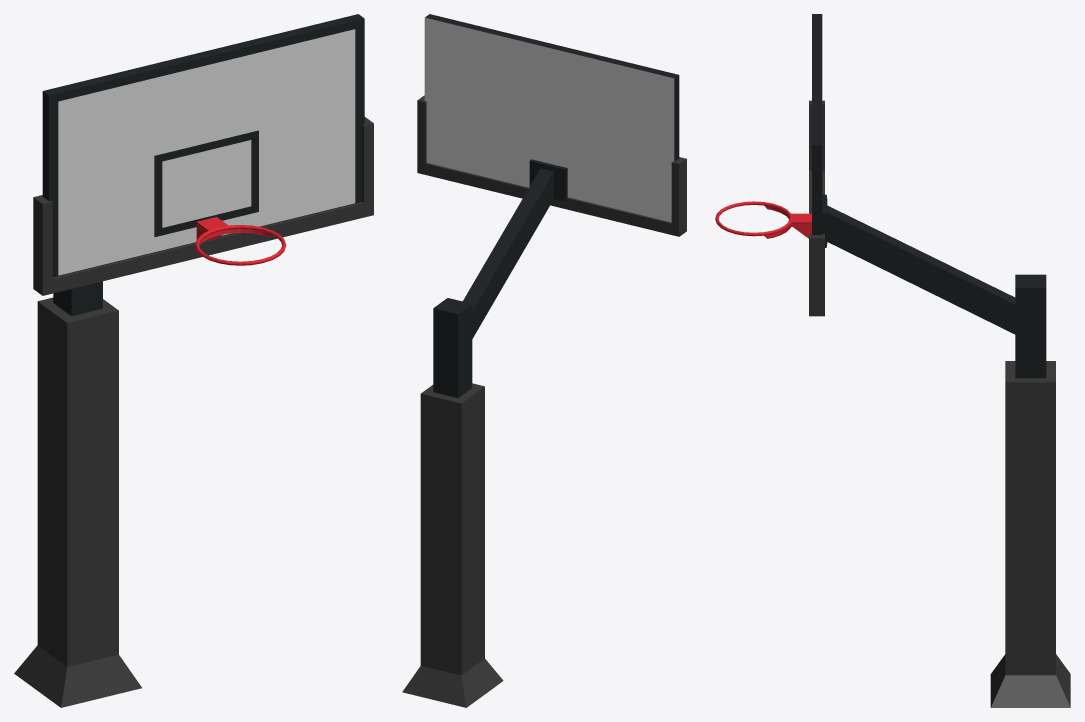
Rendered from basketball1.fbx.
The picture shows the model from 3 angles, left to right: view 1: azimuth 30°, elevation 25°; view 2: azimuth 150°, elevation 25°; view 3: azimuth 270°, elevation 25°; orthographic projection. The views are drawn at different scales.
Visible parts, largest first — view 1: backboard, base, hoop; view 2: backboard, base, back connector; view 3: base, back connector, backboard, hoop.
Part boxes in pixels (x1=…): backboard: x1=33, y1=14, x2=373, y2=295; base: x1=14, y1=281, x2=141, y2=707; hoop: x1=195, y1=225, x2=286, y2=265; backboard: x1=417, y1=14, x2=686, y2=236; base: x1=402, y1=298, x2=503, y2=707; back connector: x1=462, y1=168, x2=553, y2=338; base: x1=990, y1=274, x2=1070, y2=707; back connector: x1=827, y1=205, x2=1015, y2=334; backboard: x1=809, y1=14, x2=827, y2=316; hoop: x1=715, y1=201, x2=792, y2=238.
Size of the model in its own units: 513 by 1063 by 560.
